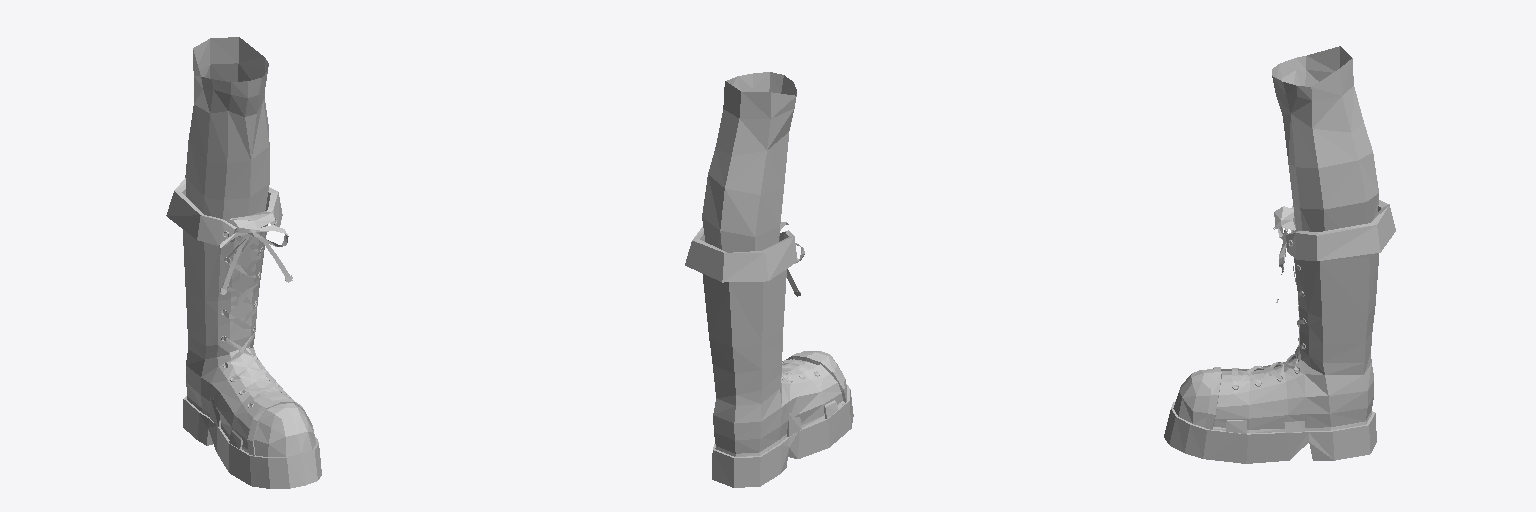
File: KOSHIRO_Pie_1.obj
3 views of the same model, side by side, from view 1: azimuth 30°, elevation 25°; view 2: azimuth 150°, elevation 25°; view 3: azimuth 270°, elevation 25° (orthographic).
Parts seen in each view (by area): view 1: Pie_1_face_Plane.009; view 2: Pie_1_face_Plane.009; view 3: Pie_1_face_Plane.009.
Part boxes in pixels (left/top/right/bottom): Pie_1_face_Plane.009: left=166, top=37, right=321, bottom=488; Pie_1_face_Plane.009: left=685, top=72, right=853, bottom=487; Pie_1_face_Plane.009: left=1164, top=46, right=1395, bottom=463.
Size of the model in its own units: 0.1064 by 0.4353 by 0.2364.